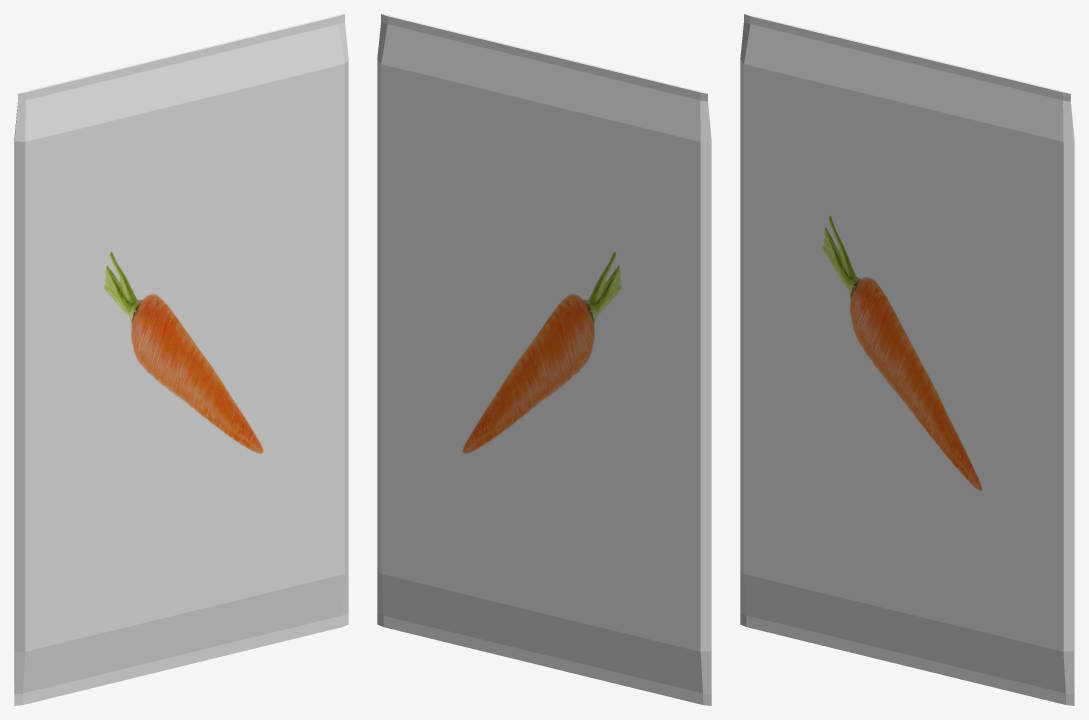
The model's file is seedPackets1.fbx.
3 views of the same model, side by side, from view 1: azimuth 30°, elevation 25°; view 2: azimuth 150°, elevation 25°; view 3: azimuth 330°, elevation 25° (orthographic).
Visible parts, largest first — view 1: Carrot; view 2: Carrot; view 3: Carrot.
Boxes of the visible parts, x1,y1,x2,y2 form: Carrot: (14, 14, 348, 705); Carrot: (377, 14, 711, 705); Carrot: (740, 14, 1074, 705).
Size of the model in its own units: 657 by 1150 by 24.61.
